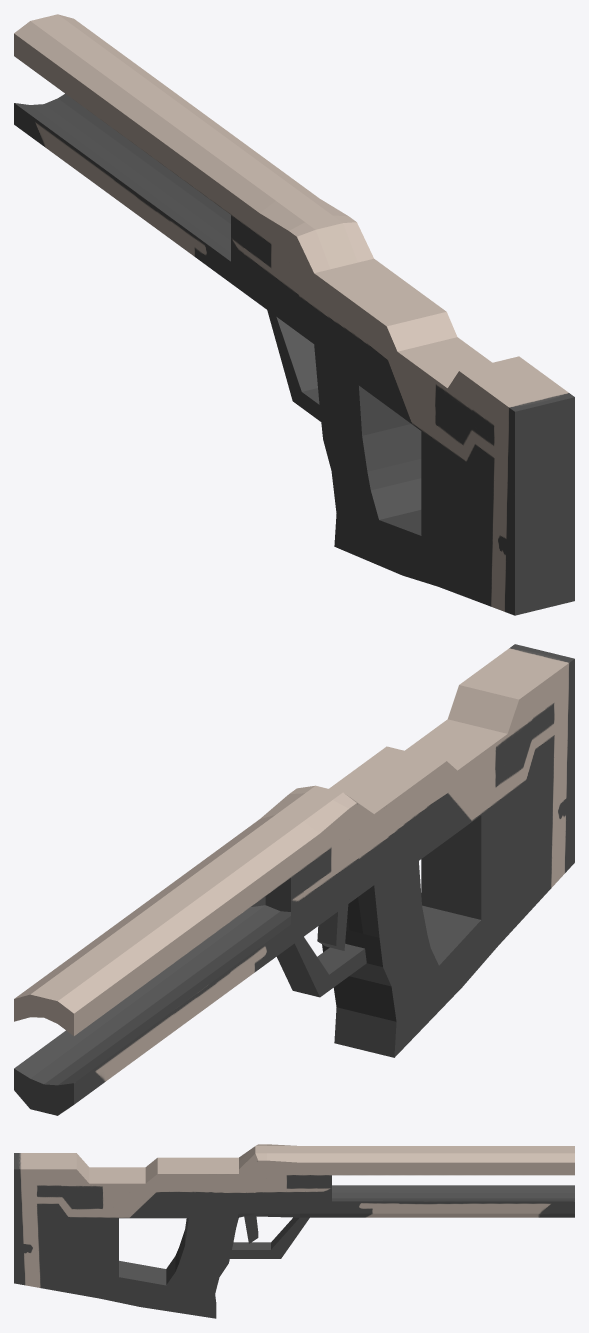
The model's file is Railgun.fbx.
3 views of the same model, one above another, from view 1: azimuth 30°, elevation 25°; view 2: azimuth 150°, elevation 25°; view 3: azimuth 270°, elevation 25° (orthographic). The views are drawn at different scales.
Parts seen in each view (by area): view 1: Cubo; view 2: Cubo; view 3: Cubo.
Part boxes in pixels (left/top/right/bottom): Cubo: left=14, top=14, right=574, bottom=615; Cubo: left=14, top=644, right=574, bottom=1115; Cubo: left=14, top=1144, right=574, bottom=1318.
Bounding box in the file's own units: 58.47 × 267 × 845.
